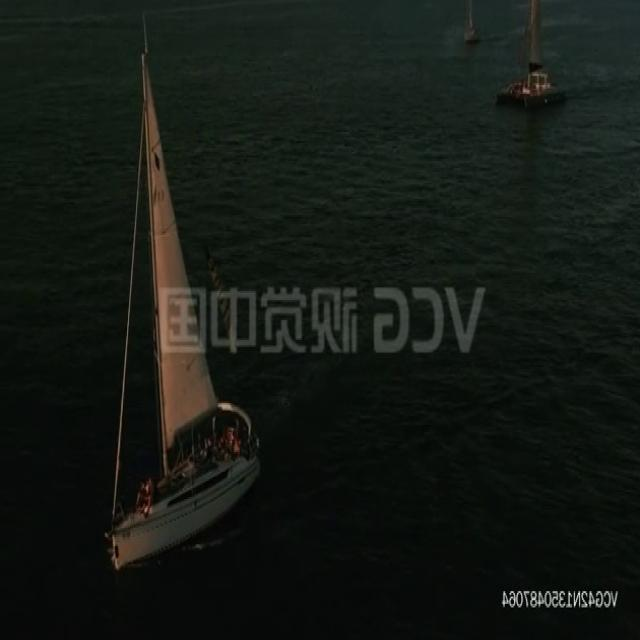sailboat: (102, 35, 259, 564), (497, 0, 576, 114), (461, 0, 483, 45)
